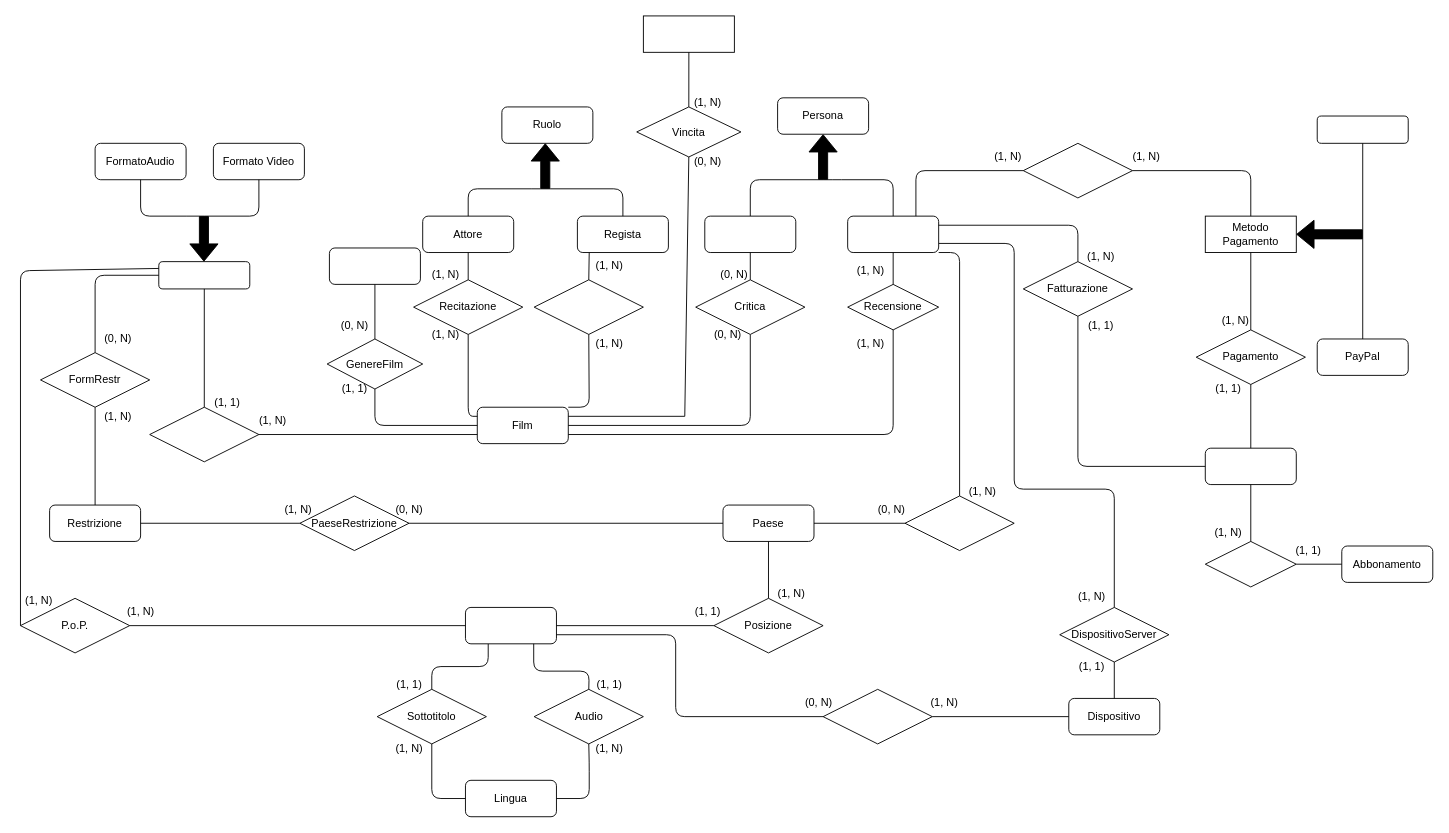
The diagram is 1449 pixels wide and 833 high, and some of its shapes have lost their labels. The centre of each missing label's shape, as x and y in pixels:
"AbbFattura" belongs at (1250,564).
"Carta" belongs at (1362,129).
"Connessione" belongs at (877,716).
"Critico" belongs at (750,234).
"Fattura" belongs at (1250,466).
"Formato" belongs at (204,275).
"FormatoFilm" belongs at (204,434).
"Genere" belongs at (374,265).
"Geolocalizzazione" belongs at (959,523).
"Preferenza" belongs at (1077,170).
"Premio" belongs at (688,33).
"Regia" belongs at (588,306).
"Server" belongs at (510,625).
"Utente" belongs at (893,234).
